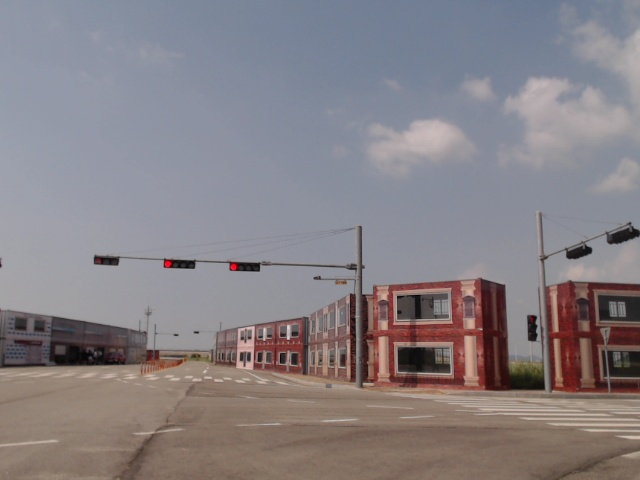red_4: (163, 259, 196, 270), (228, 261, 260, 272)
